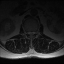CCS_normal: (30, 29, 32, 37)
LFS_normal: (35, 29, 37, 35)
LLS_normal: (32, 29, 34, 36)
RFS_normal: (26, 29, 28, 36)
RLS_normal: (28, 29, 30, 36)
